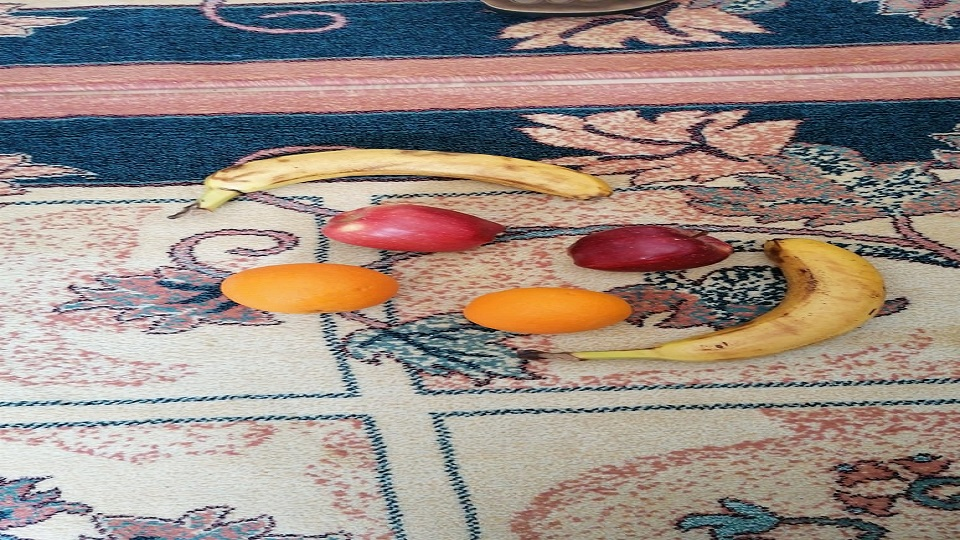elma: (320, 203, 506, 255), (567, 222, 734, 271)
muz: (562, 237, 887, 364), (193, 148, 612, 209)
portakal: (219, 263, 400, 314), (463, 285, 633, 335)
